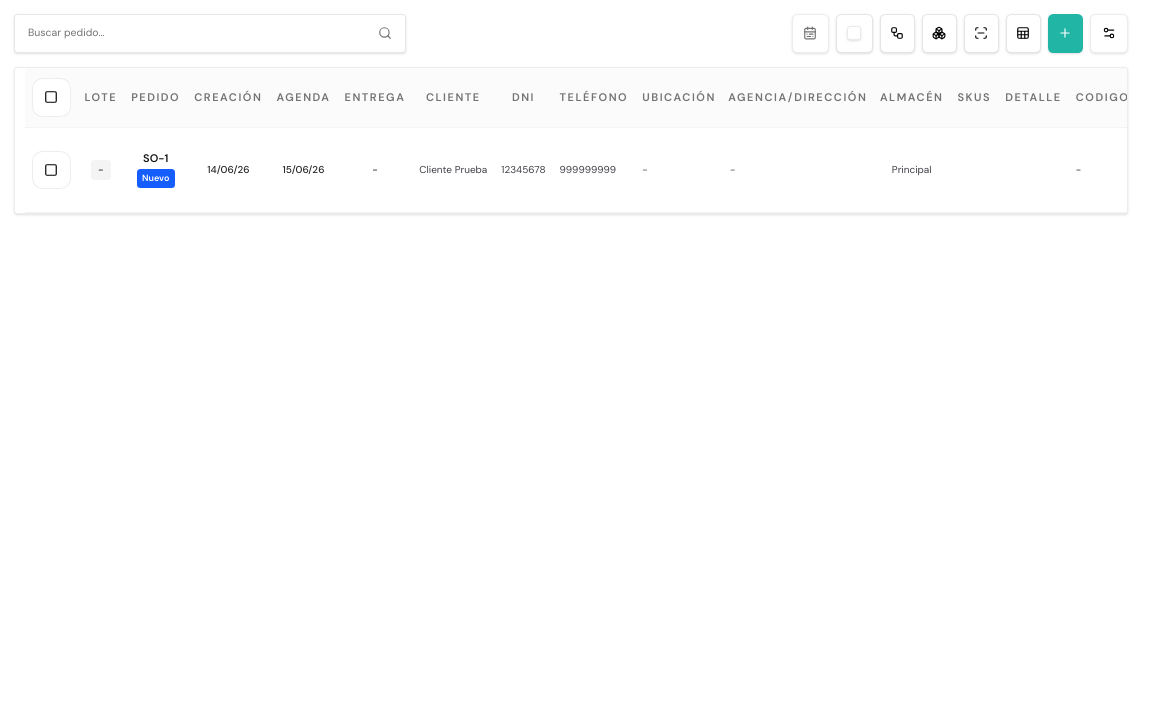
Test: SaleOrders › does not render listed id-only components while loading order detail
Click the text "SO-1": point(156, 158) [143, 151, 168, 165]
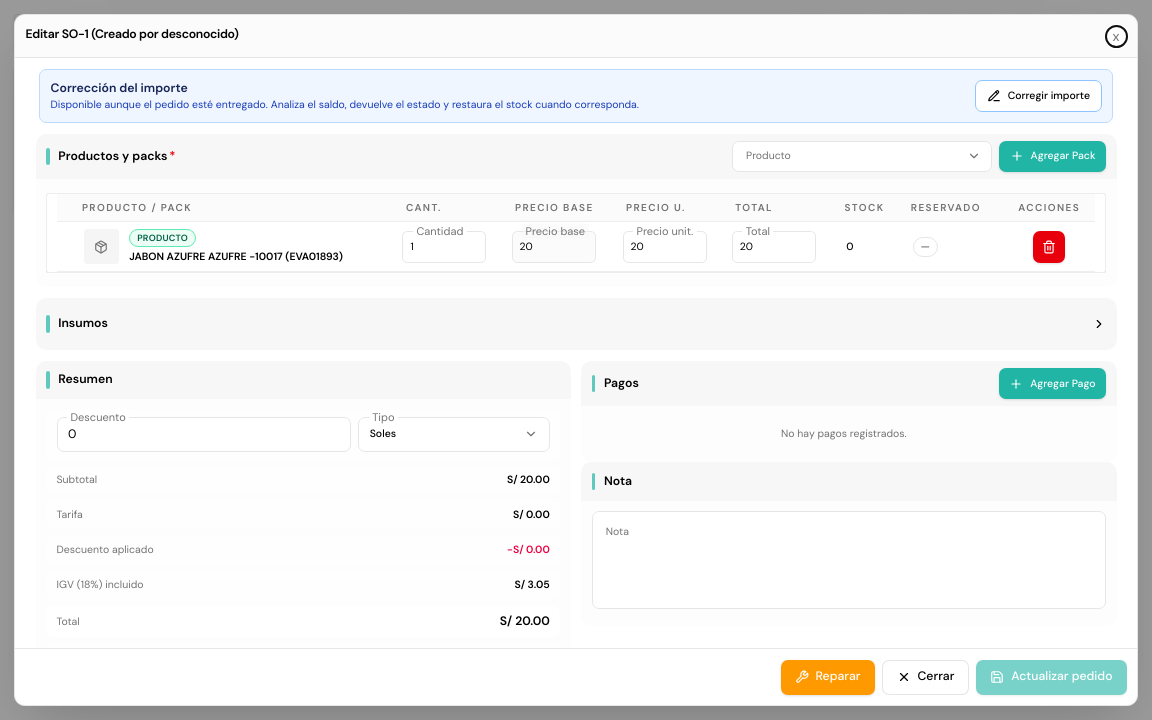
Result: the text "JABON AZUFRE AZUFRE -10017 (EVA01893)" is shown at [129, 250, 343, 264]
